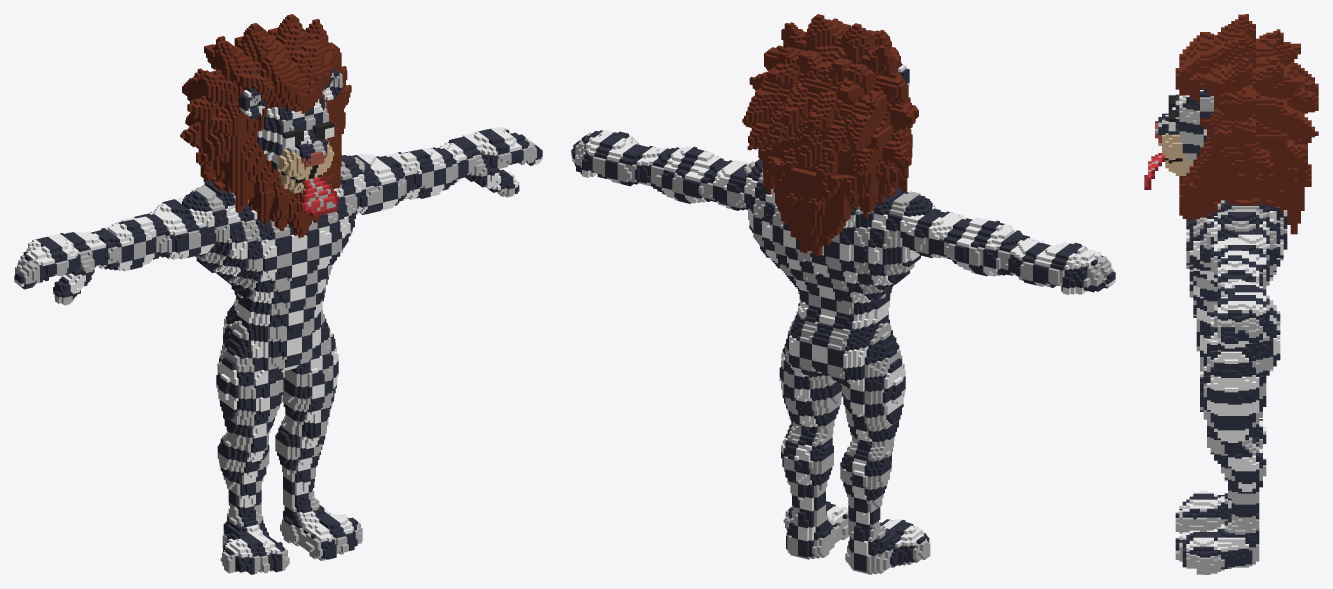
The model's file is 714-BBRLy1qU.glb.
3 renders of one model, left to right at view 1: azimuth 30°, elevation 25°; view 2: azimuth 150°, elevation 25°; view 3: azimuth 270°, elevation 25°, orthographic. The views are drawn at different scales.
Parts seen in each view (by area): view 1: meat; view 2: meat; view 3: meat.
Part boxes in pixels (box(x1,y1,x2,y2)): meat: box(14, 14, 542, 574); meat: box(571, 14, 1115, 574); meat: box(1144, 14, 1318, 574).
Size of the model in its own units: 17.2 by 16.5 by 5.
Materials: 4 (4 with a texture image).
